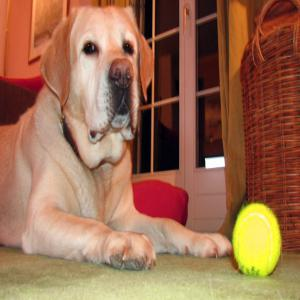TennisBall: (232, 203, 283, 282)
